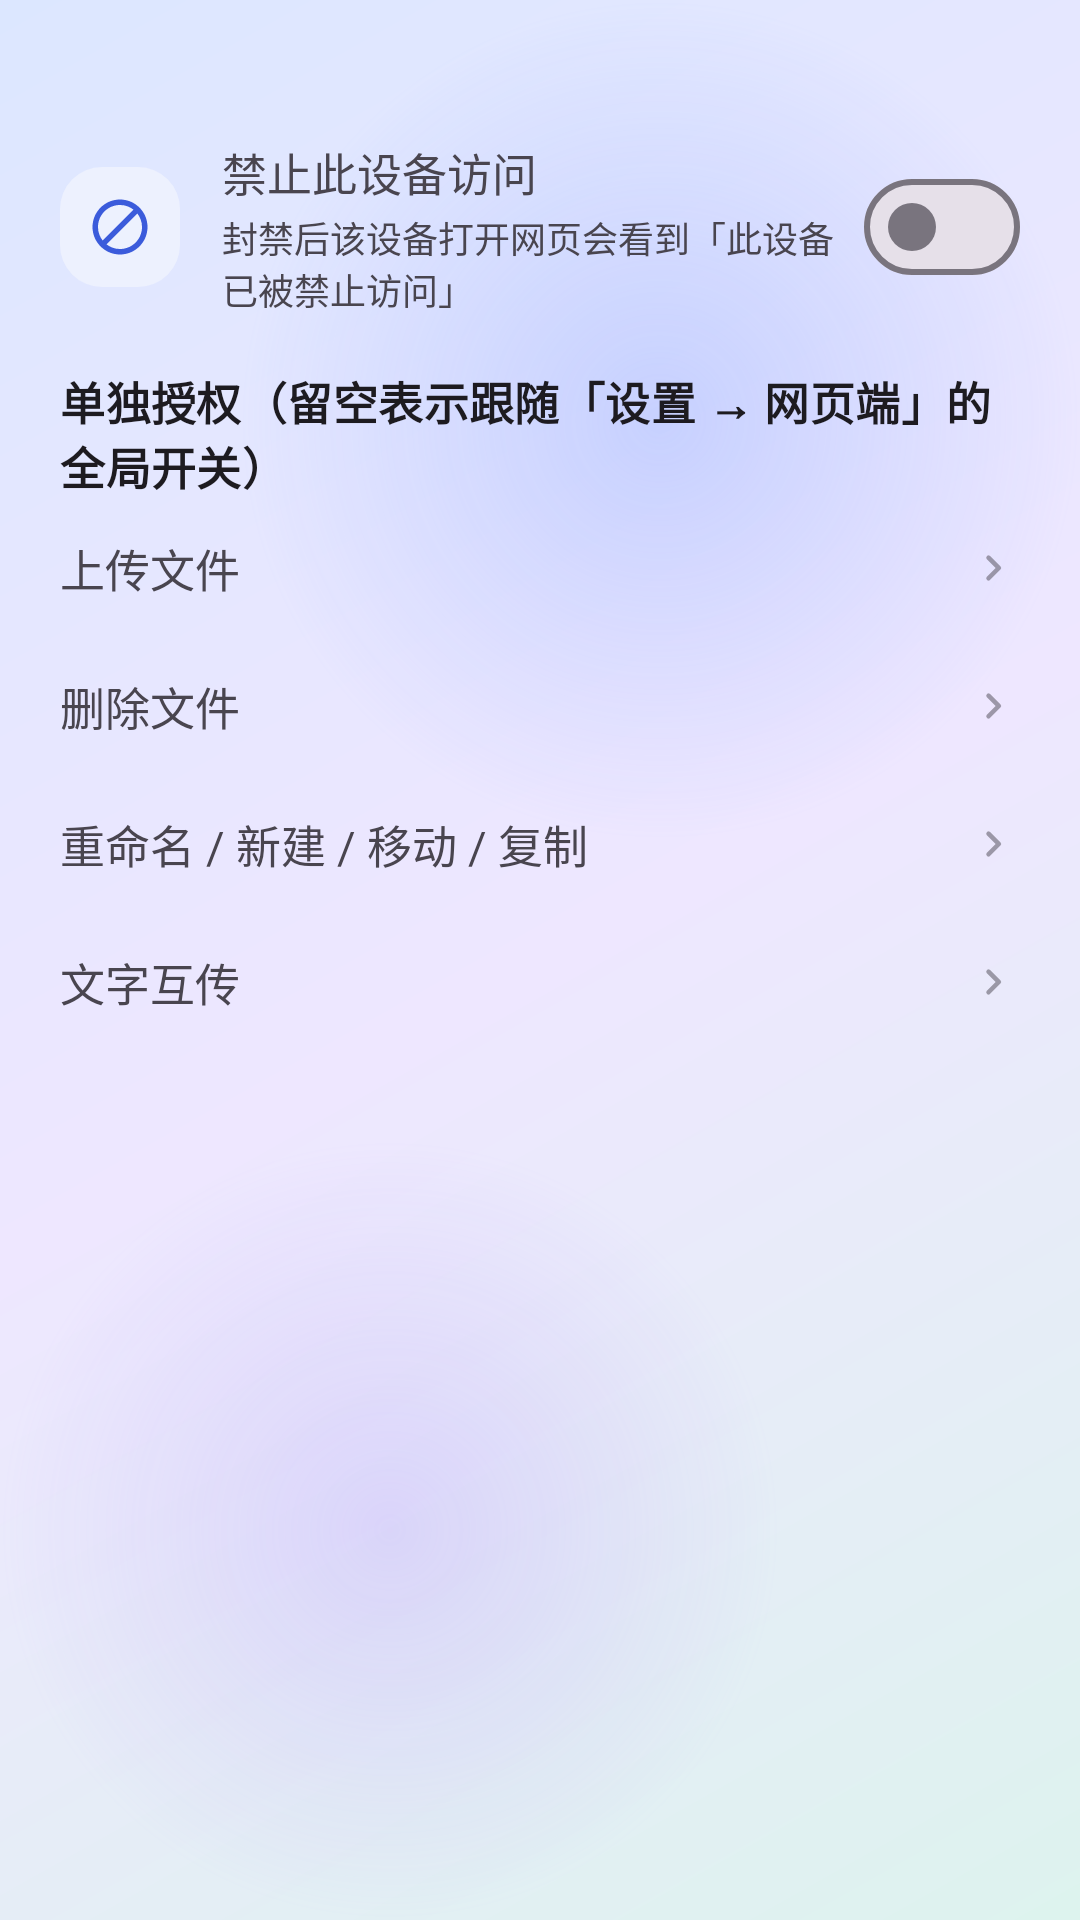

Icon bounding boxes for this 1080 x 1920 phone screenshot, format (x1, y1, x2, y2):
block: (60, 167, 180, 287)
chevron right: (986, 555, 1001, 581), (986, 693, 1001, 719), (986, 831, 1001, 857), (986, 969, 1001, 995)
